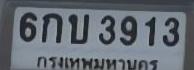1: (144, 16, 155, 45)
3: (98, 14, 114, 44), (162, 16, 178, 46)
6: (19, 11, 36, 41)
9: (119, 15, 136, 45)
A01: (41, 12, 62, 42)
A26: (68, 13, 89, 44)
BKK: (35, 53, 159, 70)
